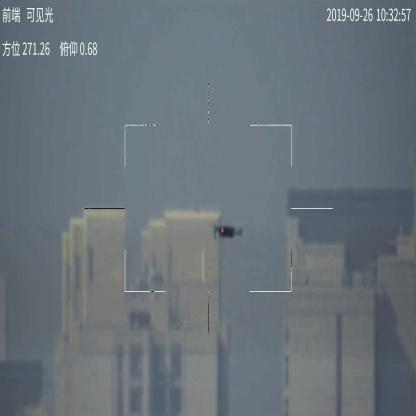uav: (210, 222, 247, 239)
